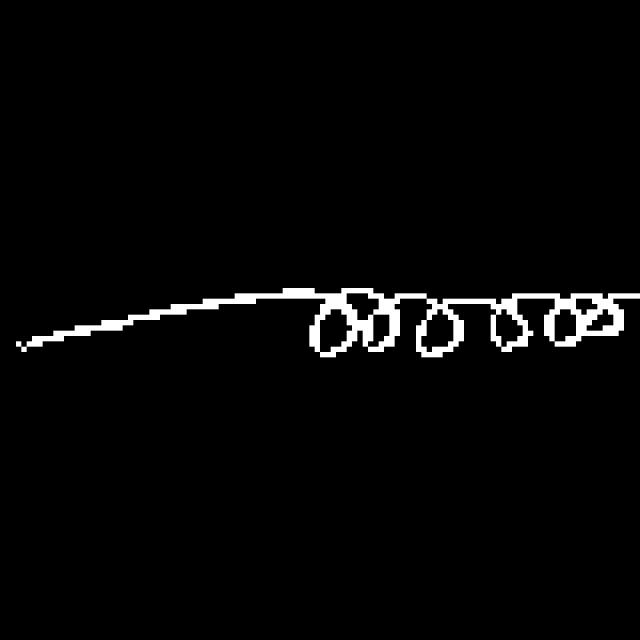inductor: (301, 274, 639, 378)
